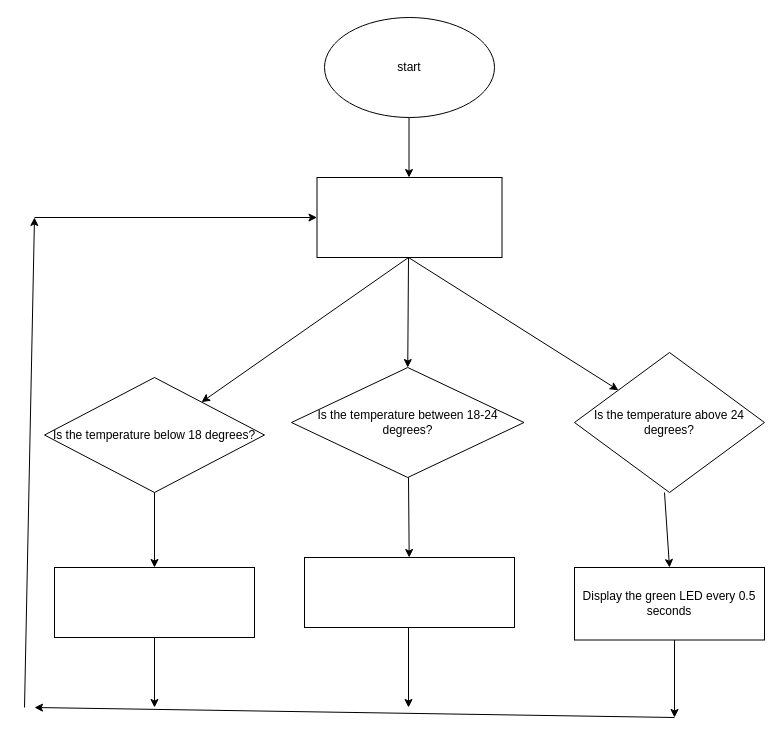
The diagram is 782 pixels wide and 743 high, and some of its shapes have lost their labels. Each missing label, with the centre of its shape:
"Display a constant green LED" goes at point (409, 592).
"Display the yellow LED every 0.25 seconds" goes at point (154, 602).
"Read voltage and calculate corresponding temperature" goes at point (409, 217).
